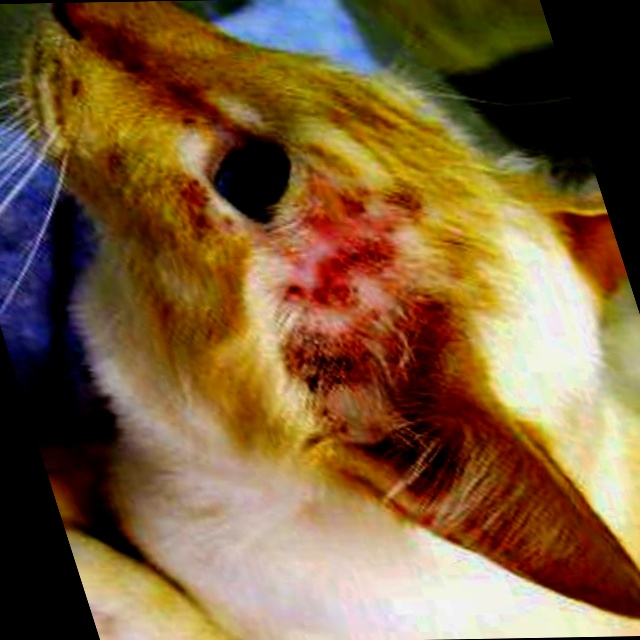ringworm: (226, 164, 488, 404)
